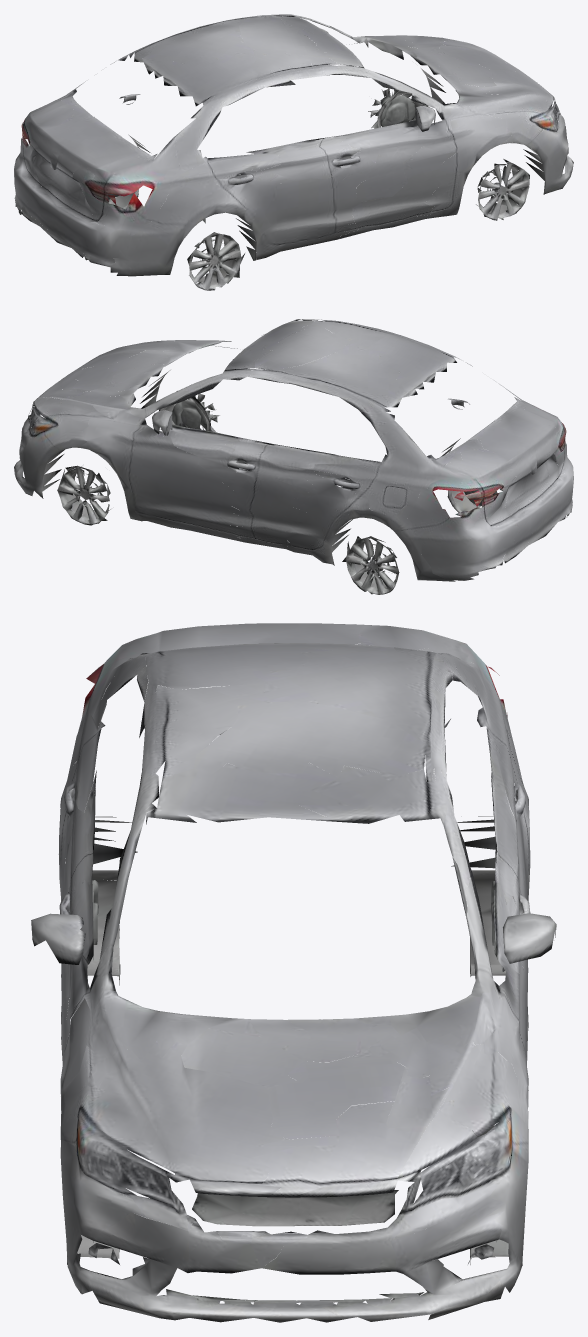
The model's file is car-paint.glb.
3 views of the same model, one above another, from view 1: azimuth 30°, elevation 25°; view 2: azimuth 150°, elevation 25°; view 3: azimuth 270°, elevation 25° (orthographic). The views are drawn at different scales.
Visible parts, largest first — view 1: tripo_node_65482e96-518d-42b4-b249-5623e2155b7f; view 2: tripo_node_65482e96-518d-42b4-b249-5623e2155b7f; view 3: tripo_node_65482e96-518d-42b4-b249-5623e2155b7f.
Boxes of the visible parts, <box> form: tripo_node_65482e96-518d-42b4-b249-5623e2155b7f: <box>14,14,573,290</box>; tripo_node_65482e96-518d-42b4-b249-5623e2155b7f: <box>14,319,573,594</box>; tripo_node_65482e96-518d-42b4-b249-5623e2155b7f: <box>31,623,556,1322</box>.
Bounding box in the file's own units: 4.85 × 1.72 × 2.24.
Materials: 1 (1 with a texture image).
